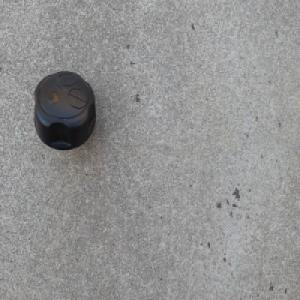FuelCap: (33, 69, 96, 152)
